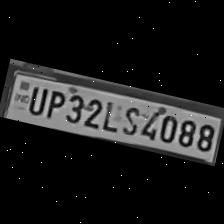0: (155, 110, 181, 144)
2: (79, 92, 105, 129)
3: (60, 88, 86, 124)
4: (137, 104, 163, 139)
8: (192, 118, 218, 153), (173, 114, 198, 148)
L: (98, 95, 122, 132)
P: (41, 84, 66, 120)
S: (117, 100, 144, 136)
U: (23, 80, 48, 115)
